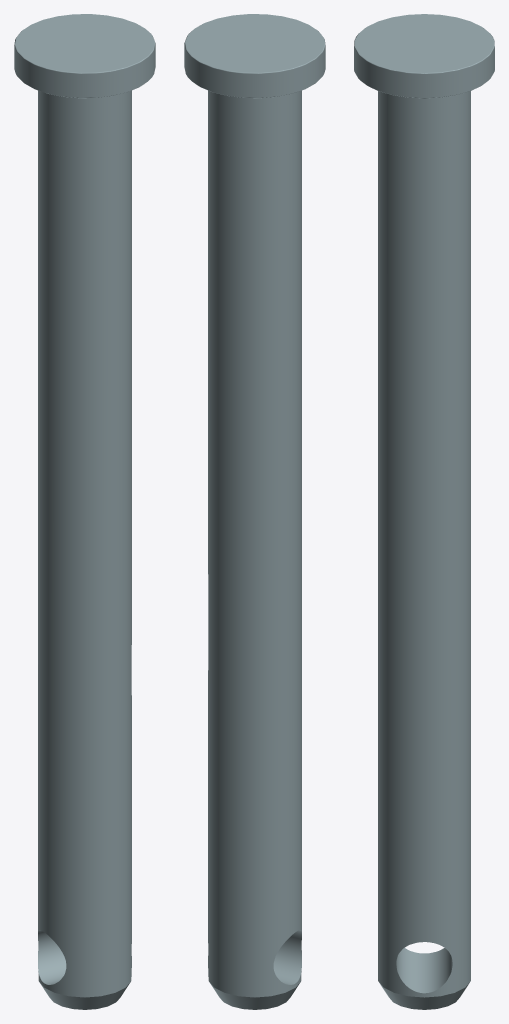
Rendered from Sample3.obj.
The picture shows the model from 3 angles, left to right: view 1: azimuth 30°, elevation 25°; view 2: azimuth 150°, elevation 25°; view 3: azimuth 270°, elevation 25°; orthographic projection.
Parts seen in each view (by area): view 1: MODEL; view 2: MODEL; view 3: MODEL.
Part boxes in pixels (<box>): MODEL: <box>14,14,155,1009</box>; MODEL: <box>184,14,325,1009</box>; MODEL: <box>354,14,494,1009</box>.
Size of the model in its own units: 30 by 223 by 29.9.
